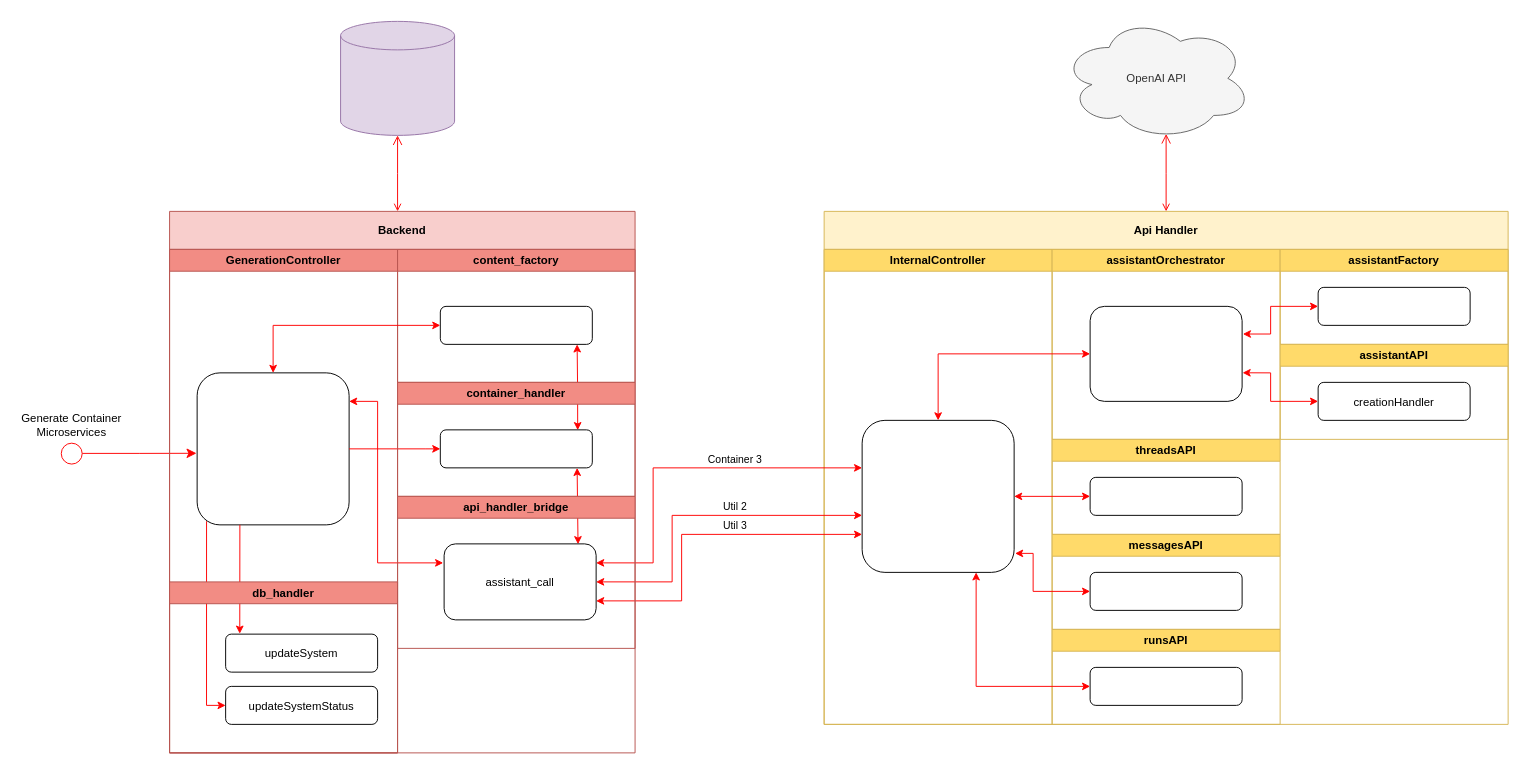
Image size: 1525x770. Some labels were removed from this diagram. The shapes that lost their labels are listed below. From the top down, each one's centre as x and y in pixels, then its label:
(x=397, y=77): MongoDB
(x=515, y=324): getContainerContent
(x=1393, y=305): set_assets
(x=1165, y=353): assistantCreation
(x=272, y=448): generateSystem
(x=515, y=448): getServicesList
(x=937, y=495): interrogate
(x=1165, y=495): threadCreationHandler
(x=1165, y=590): messageCreationHandler
(x=1165, y=685): runCreationHandler
